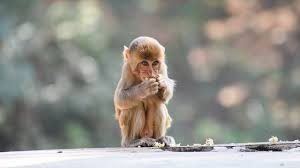monkey: (101, 13, 214, 162)
